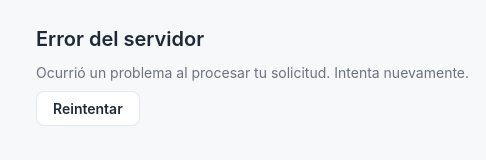
Test: Reintento real con TanStack Query (FE-T1212.D) › cada clic en Reintentar produce exactamente una solicitud nueva (sin duplicados)
The width and height of the screenshot is (486, 160).
Check: the message is shown, box 36,27 -> 469,126
Click the button "Reintentar" at (88, 108), box 36,91 -> 140,126
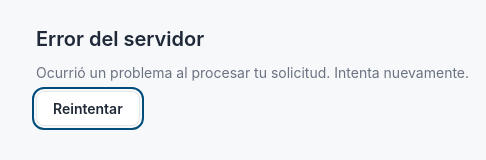
Check: the message is shown, box 36,27 -> 469,126
Click the button "Reintentar" at (88, 108), box 36,91 -> 140,126
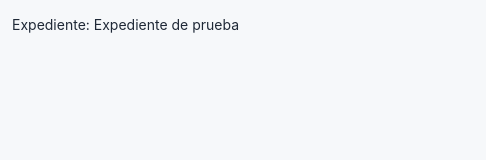
Check: the text "Expediente: Expediente de prueba" is shown, box 12,16 -> 239,33
